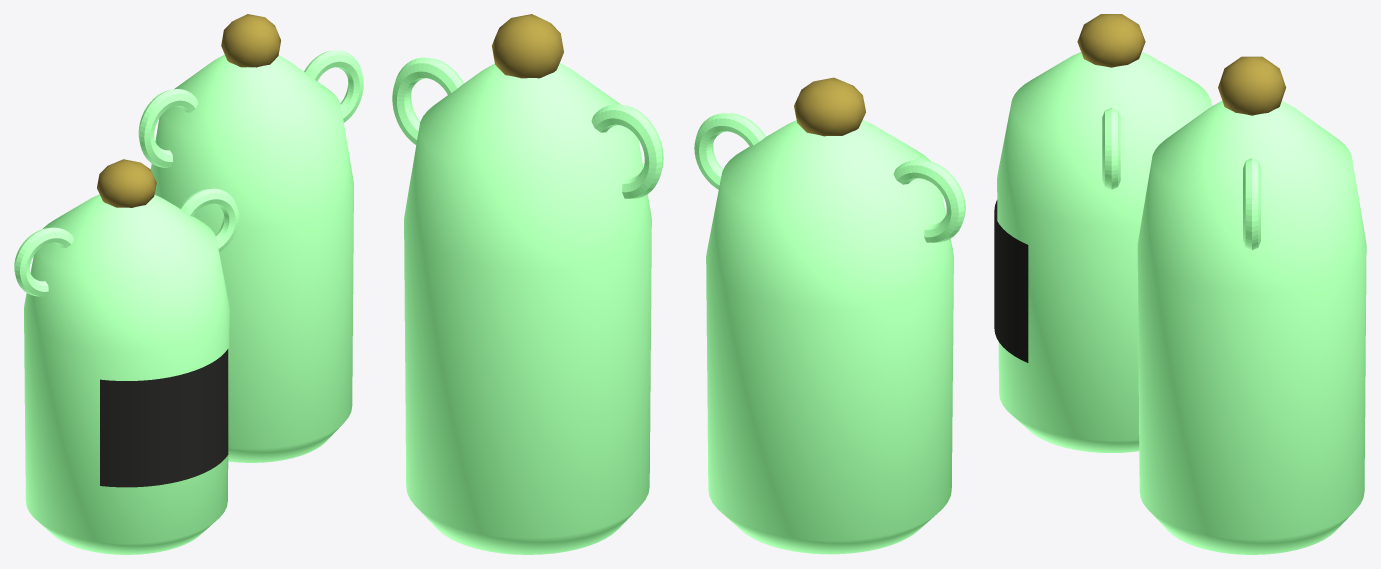
3 views of the same model, side by side, from view 1: azimuth 30°, elevation 25°; view 2: azimuth 150°, elevation 25°; view 3: azimuth 270°, elevation 25° (orthographic). The views are drawn at different scales.
Parts seen in each view (by area): view 1: TI006 / bulbous urn.001, TI006 / bulbous urn, TI006 / front urn label, TI006 / urn stopper.001, TI006 / urn stopper, TI006 / loop handle.002, TI006 / loop handle, TI006 / loop handle.003, TI006 / loop handle.001; view 2: TI006 / bulbous urn.001, TI006 / bulbous urn, TI006 / urn stopper.001, TI006 / urn stopper, TI006 / loop handle.002, TI006 / loop handle, TI006 / loop handle.003, TI006 / loop handle.001; view 3: TI006 / bulbous urn.001, TI006 / bulbous urn, TI006 / front urn label, TI006 / urn stopper.001, TI006 / urn stopper, TI006 / loop handle.003, TI006 / loop handle.001.
Boxes of the visible parts, x1,y1,x2,y2 form: TI006 / bulbous urn.001: (150, 54, 353, 462); TI006 / bulbous urn: (24, 194, 229, 554); TI006 / front urn label: (100, 349, 228, 487); TI006 / urn stopper.001: (221, 14, 280, 67); TI006 / urn stopper: (97, 159, 156, 207); TI006 / loop handle.002: (138, 89, 198, 167); TI006 / loop handle: (14, 227, 73, 296); TI006 / loop handle.003: (304, 50, 363, 122); TI006 / loop handle.001: (179, 188, 239, 252); TI006 / bulbous urn.001: (404, 63, 651, 554); TI006 / bulbous urn: (706, 120, 953, 554); TI006 / urn stopper.001: (492, 14, 563, 78); TI006 / urn stopper: (794, 77, 865, 136); TI006 / loop handle.002: (591, 104, 663, 198); TI006 / loop handle: (893, 160, 965, 242); TI006 / loop handle.003: (392, 57, 463, 144); TI006 / loop handle.001: (694, 113, 766, 189); TI006 / bulbous urn.001: (1137, 101, 1366, 554); TI006 / bulbous urn: (997, 52, 1211, 452); TI006 / front urn label: (994, 200, 1028, 362); TI006 / urn stopper.001: (1218, 56, 1286, 115); TI006 / urn stopper: (1077, 14, 1145, 67); TI006 / loop handle.003: (1243, 158, 1260, 250); TI006 / loop handle.001: (1102, 107, 1120, 189).
Bounding box in the file's own units: 2.63 × 2.52 × 1.85.
